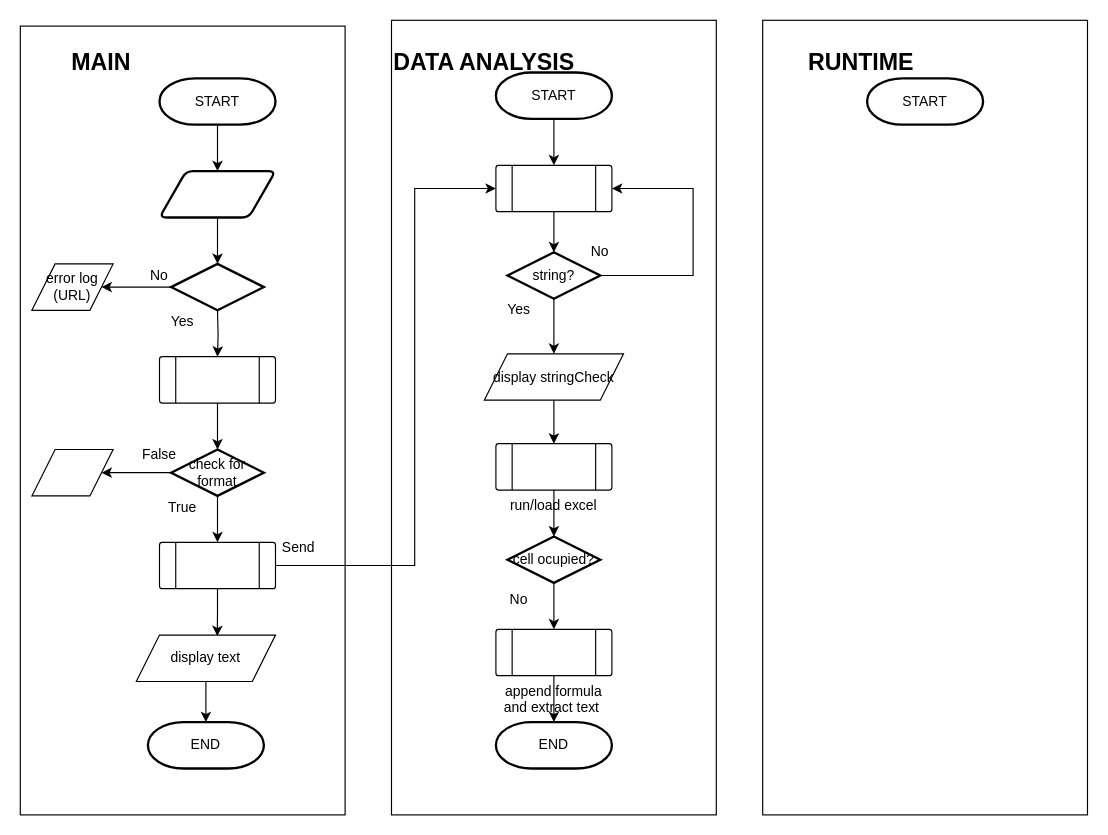
This 1108x835 diagram has some shape labels left out. The shapes that lost their labels are listed below. From the top down, each one's centre as x and y in pixels, then its label:
At [217,193]: "get URL link".
At [553,188]: "WAIT main string".
At [216,286]: "valid URL?".
At [217,379]: "parse/ extract text".
At [72,472]: "error log (format)".
At [217,565]: "parse to string".
